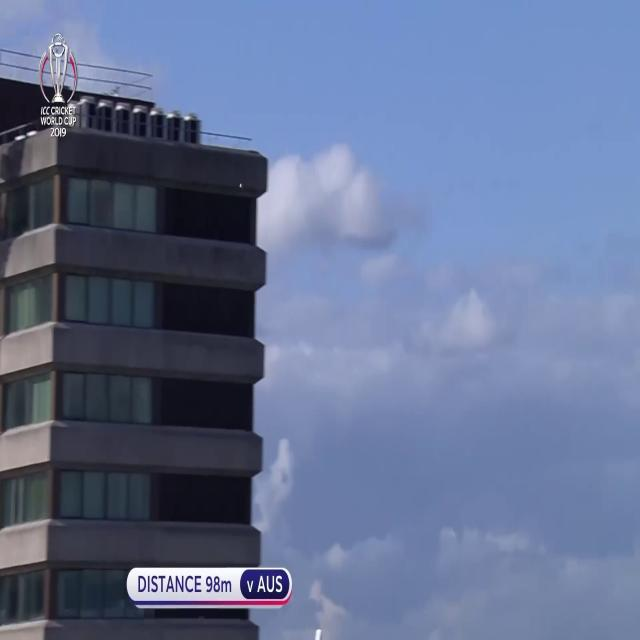ball: (238, 181, 243, 189)
